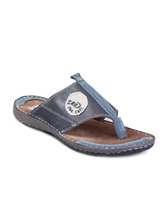shoes: (13, 75, 164, 160)
